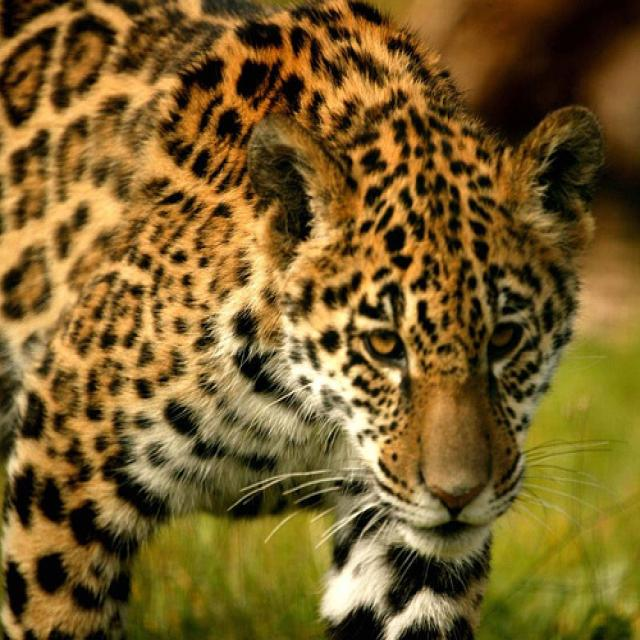Leopard: (0, 0, 602, 636)
